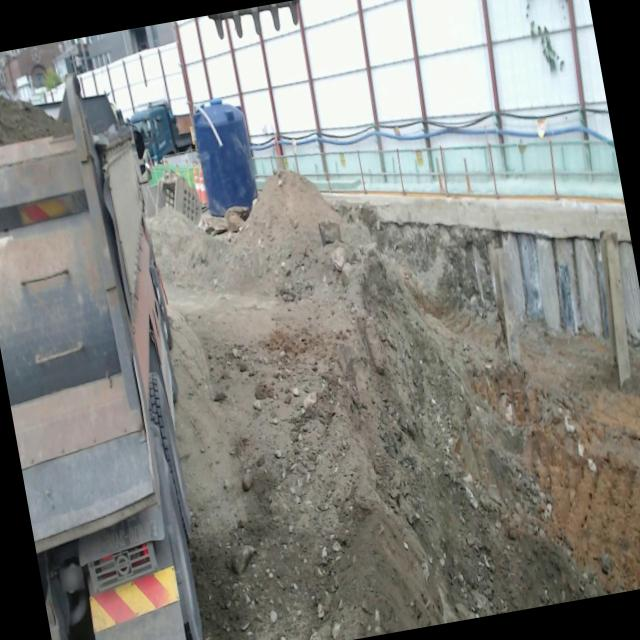red-sand: (239, 263, 640, 640), (0, 95, 56, 145)
